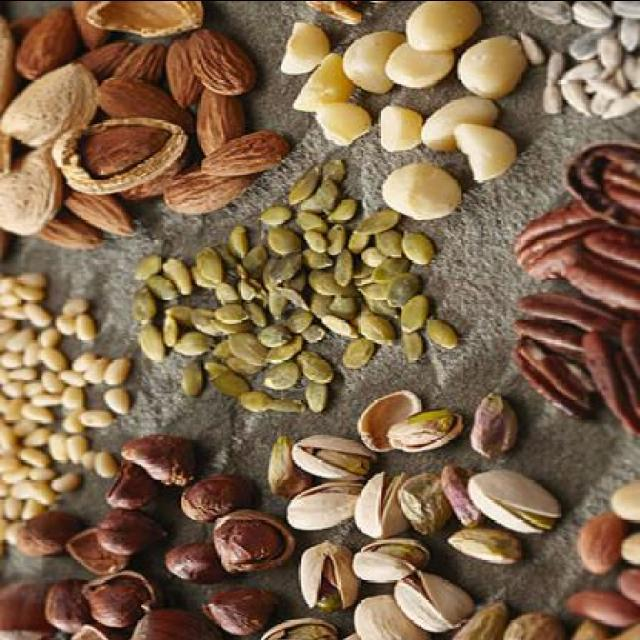Frutta secca: (138, 182, 467, 414), (7, 0, 275, 249), (275, 388, 539, 638), (3, 435, 280, 637), (280, 1, 532, 221)
